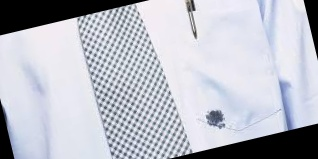ink: (204, 107, 227, 131)
